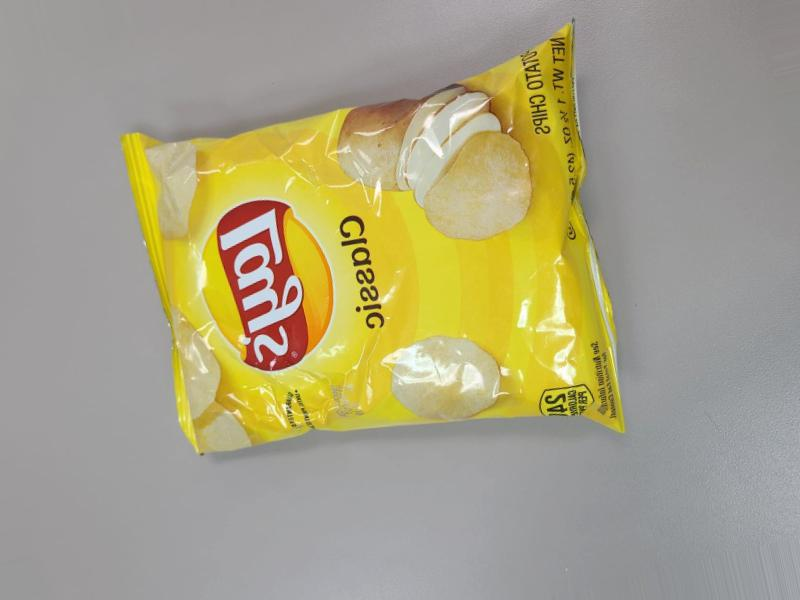lays: (78, 115, 613, 527)
